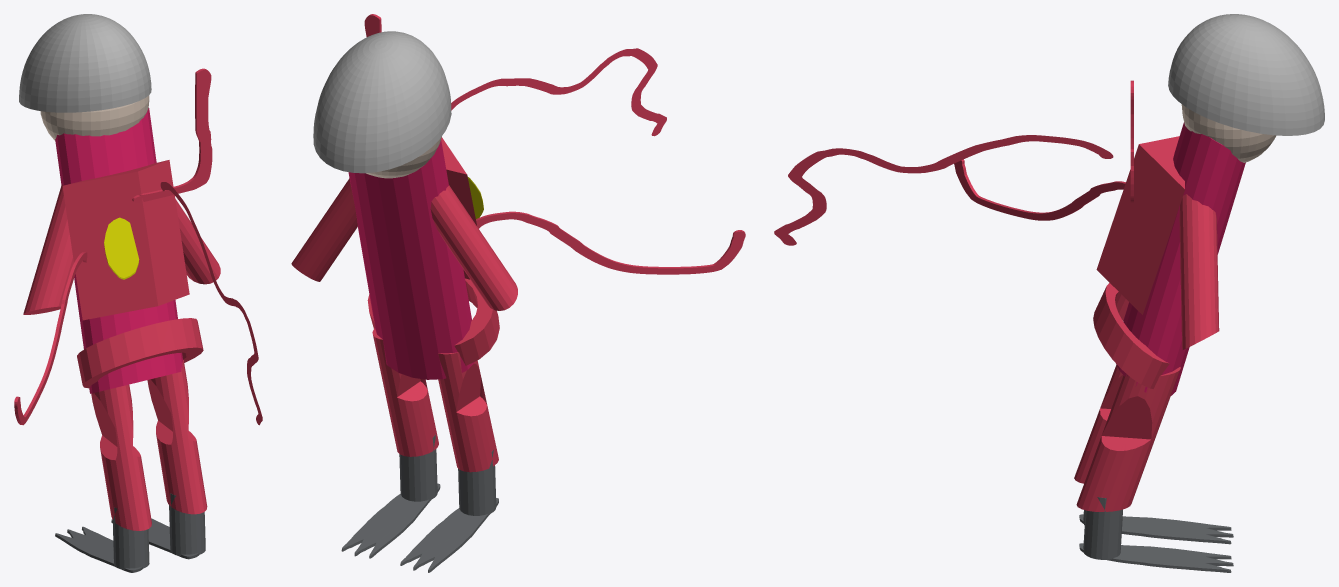
File: Scuba Diver.glb
3 views of the same model, side by side, from view 1: azimuth 30°, elevation 25°; view 2: azimuth 150°, elevation 25°; view 3: azimuth 270°, elevation 25° (orthographic). The views are drawn at different scales.
Parts seen in each view (by area): view 1: Mesh_Mesh_head_geo.001_lambert2SG.001; view 2: Mesh_Mesh_head_geo.001_lambert2SG.001; view 3: Mesh_Mesh_head_geo.001_lambert2SG.001.
Boxes of the visible parts, x1=… form: Mesh_Mesh_head_geo.001_lambert2SG.001: x1=14, y1=14, x2=262, y2=572; Mesh_Mesh_head_geo.001_lambert2SG.001: x1=291, y1=14, x2=745, y2=572; Mesh_Mesh_head_geo.001_lambert2SG.001: x1=774, y1=14, x2=1324, y2=572.
Size of the model in its own units: 113 by 172 by 162.
